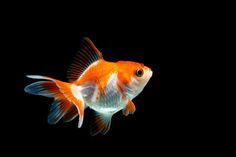goldfish: (48, 51, 163, 125)
